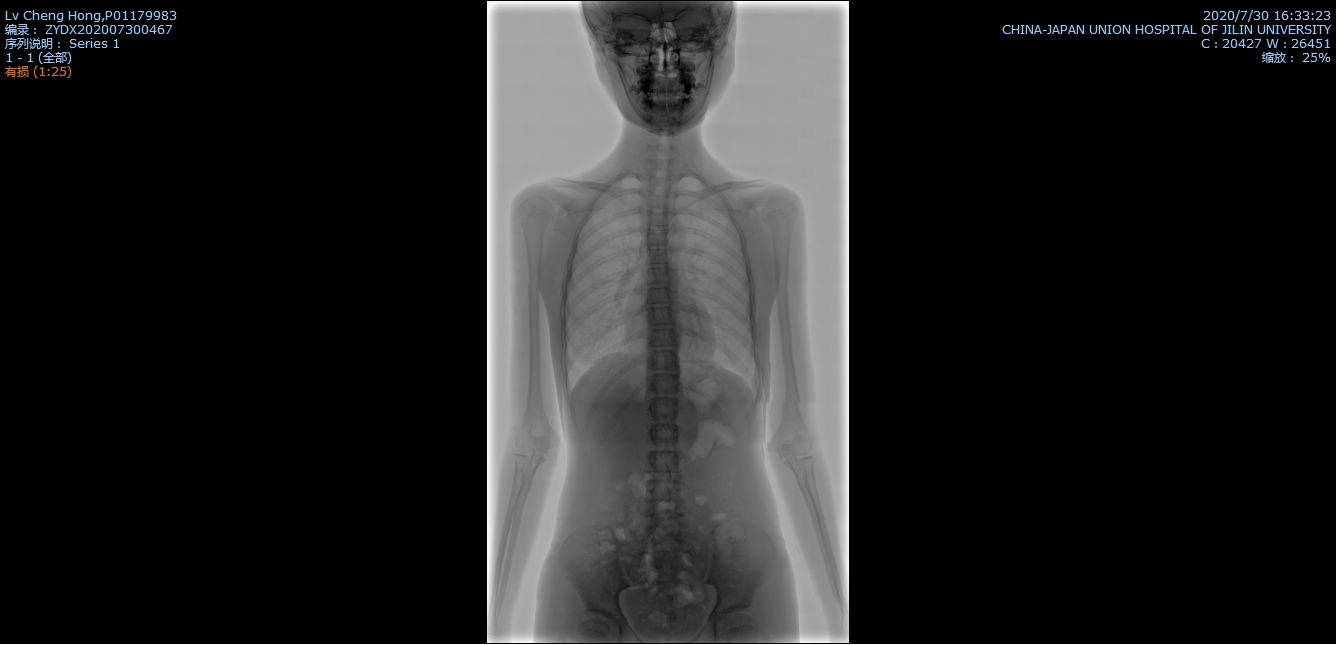Bone: (646, 511, 683, 533), (646, 481, 681, 502), (647, 422, 680, 443), (648, 450, 680, 470), (648, 376, 678, 394), (648, 351, 677, 369), (649, 399, 678, 415), (648, 330, 676, 345), (647, 308, 675, 323), (646, 266, 669, 283), (646, 288, 673, 302), (647, 248, 669, 263), (647, 230, 667, 245), (647, 210, 667, 225), (649, 192, 669, 207), (648, 157, 671, 170), (648, 176, 670, 187)
